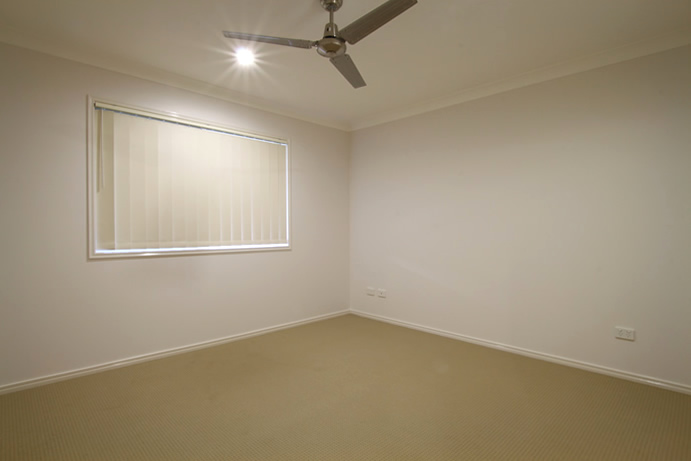ceiling fan: (204, 2, 425, 93)
